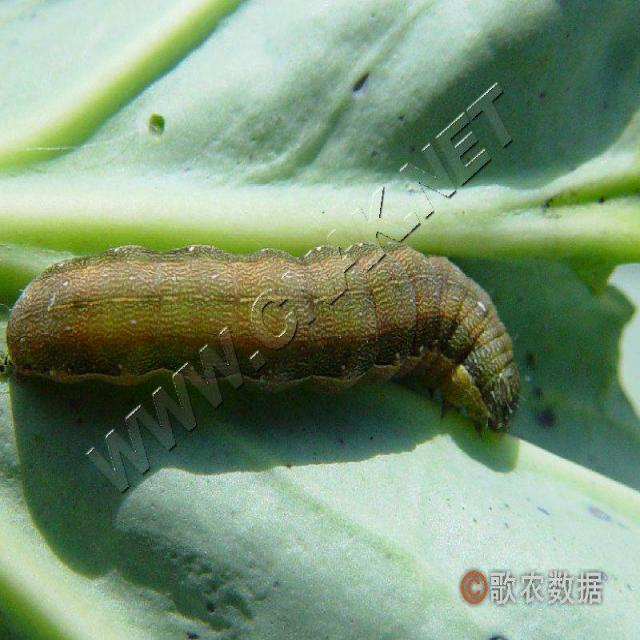BeetArmyWorm-Larva-: (6, 237, 526, 449)
